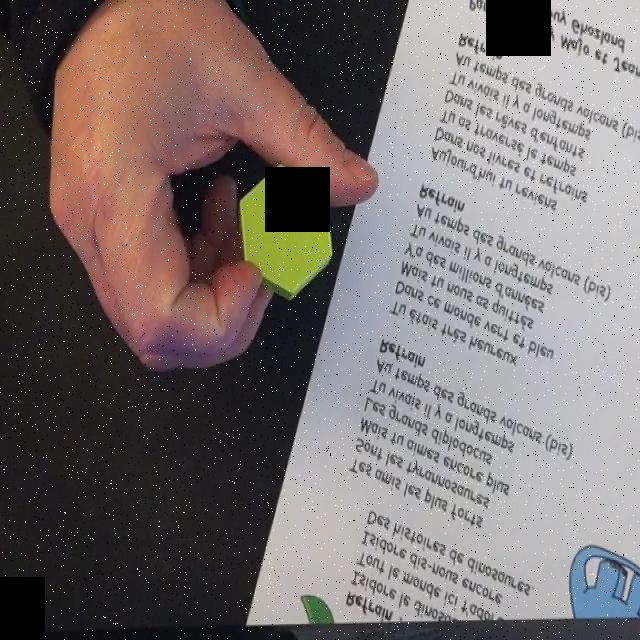hexagon: (237, 161, 336, 300)
